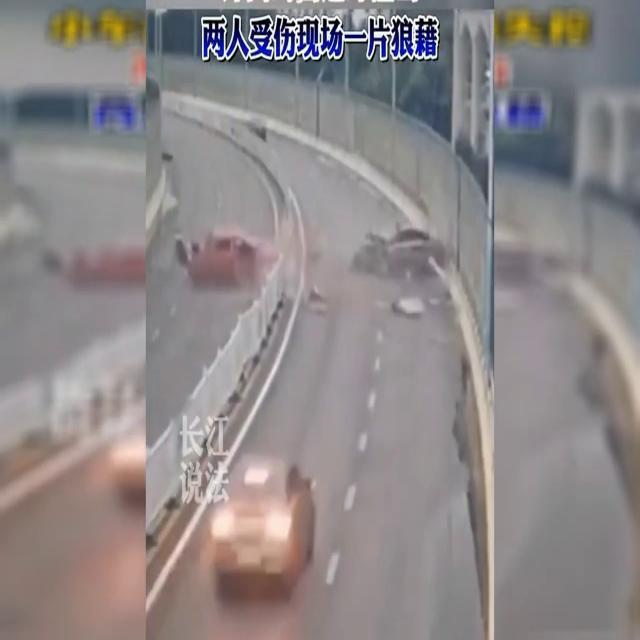accident: (182, 226, 450, 292), (365, 232, 449, 290), (182, 226, 258, 288)
